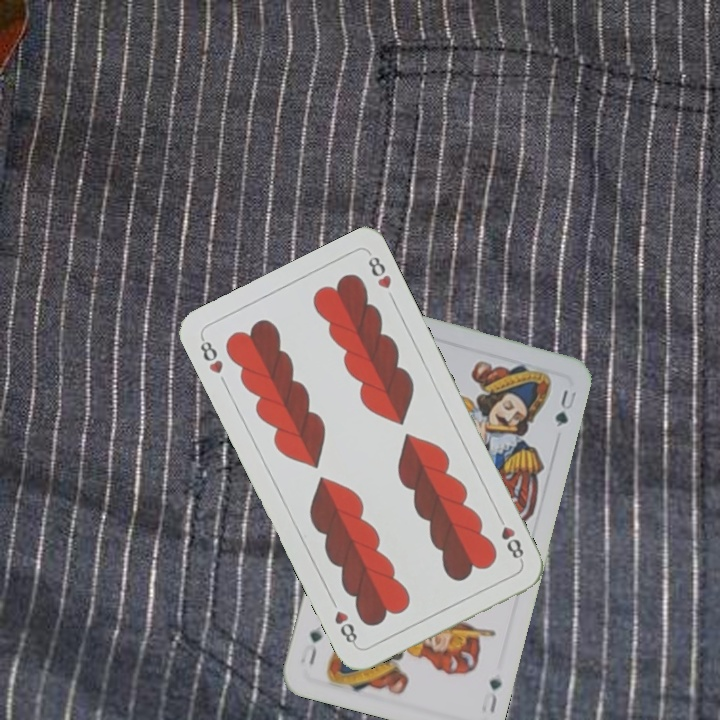GU: (485, 673, 505, 717)
H8: (493, 510, 527, 565), (196, 333, 226, 377)
